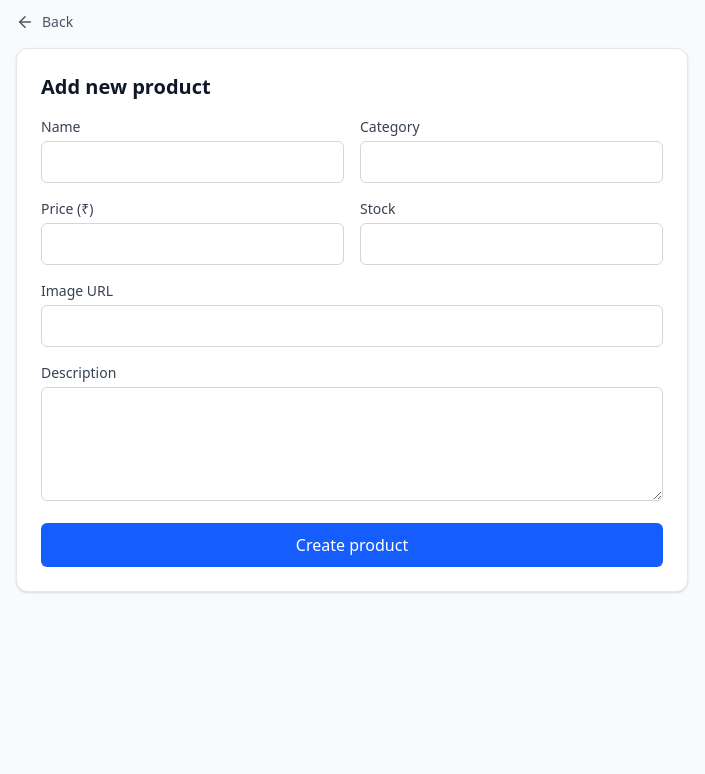
Test: ProductFormPage › add mode › validation › rejects an invalid name ("M")
In the field below "Name": (192,162) [41,141,344,183], type "M"
In the field below "Category": (512,162) [360,141,663,183], type "electronics"
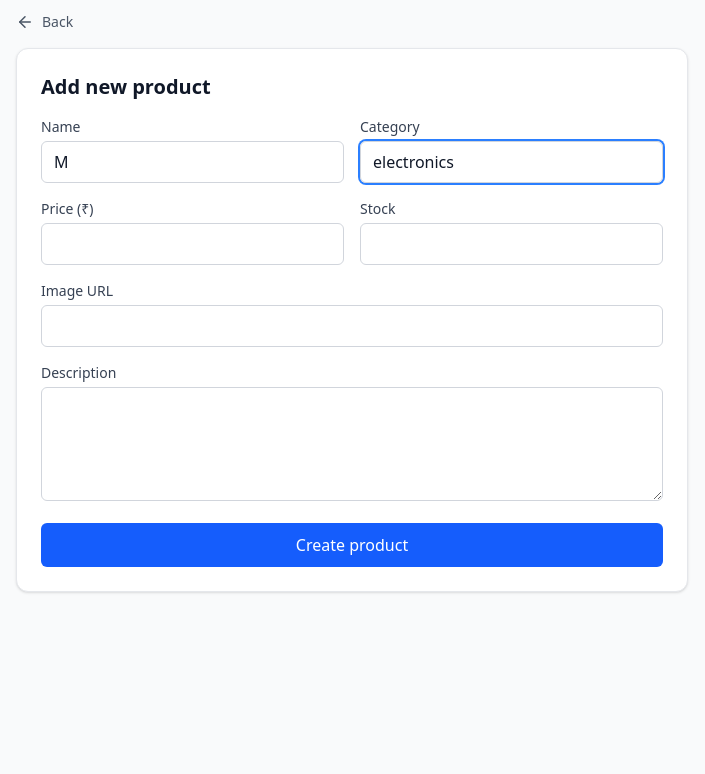
In the number field below "Price (₹)": (192,244) [41,223,344,265], type "1200"
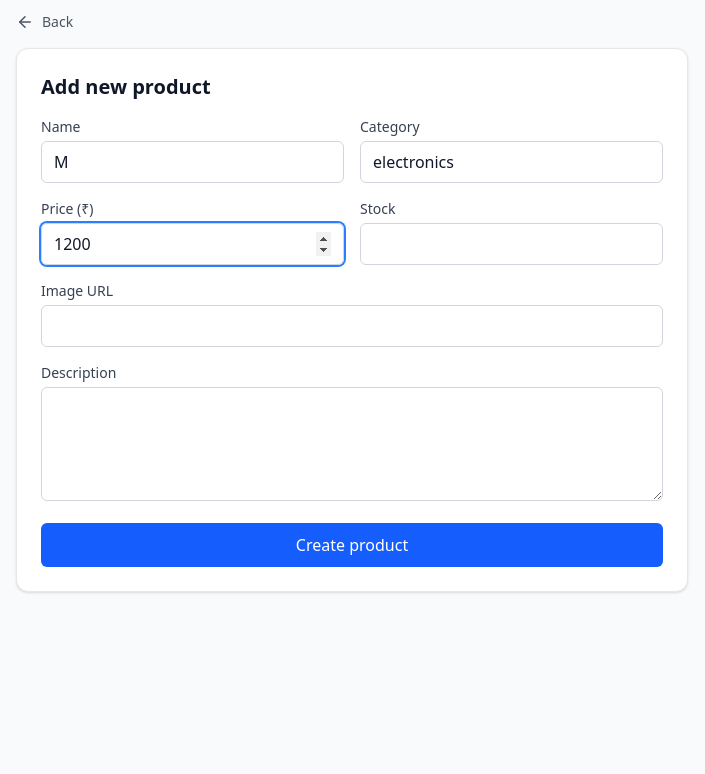
In the number field below "Stock": (512,244) [360,223,663,265], type "7"
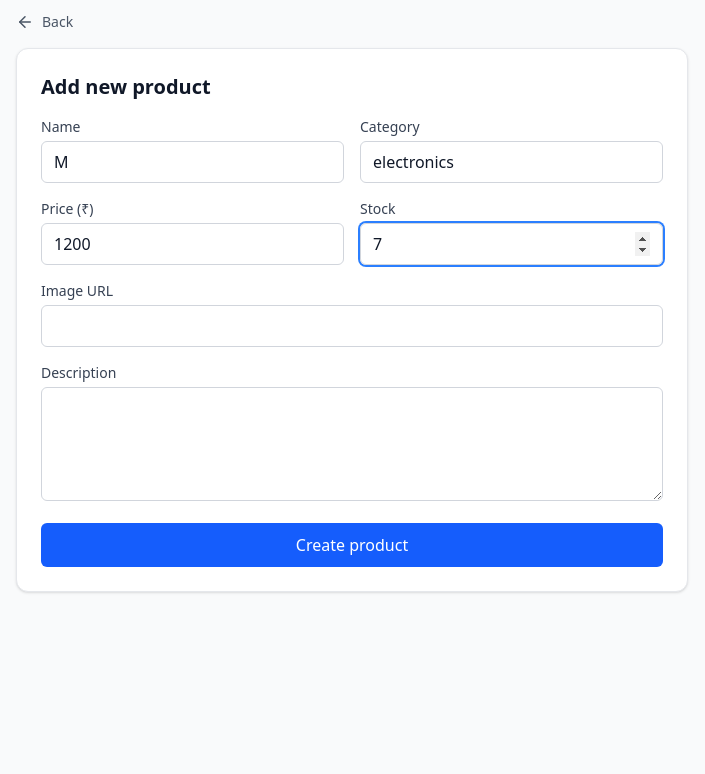
In the field below "Image URL": (352,326) [41,305,663,347], type "https://img.test/monitor.png"
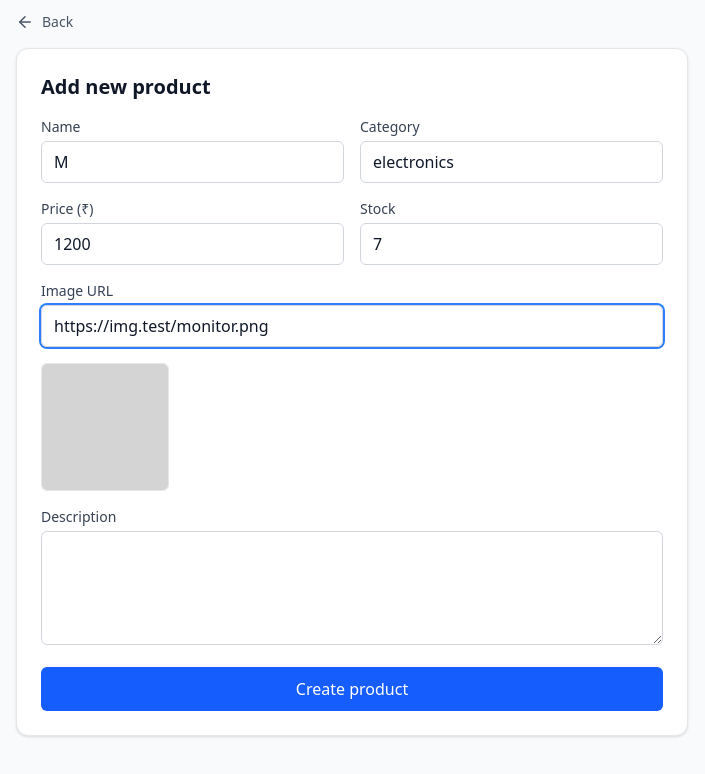
In the text box: (352,588) [41,531,663,645], type "A 24 inch monitor"
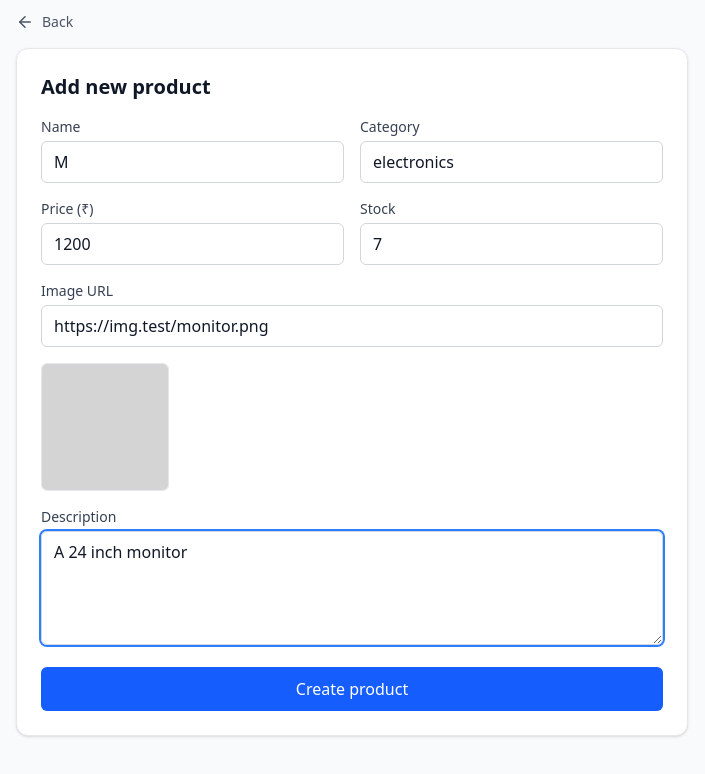
Click the button "Create product": (352,689) [41,667,663,711]
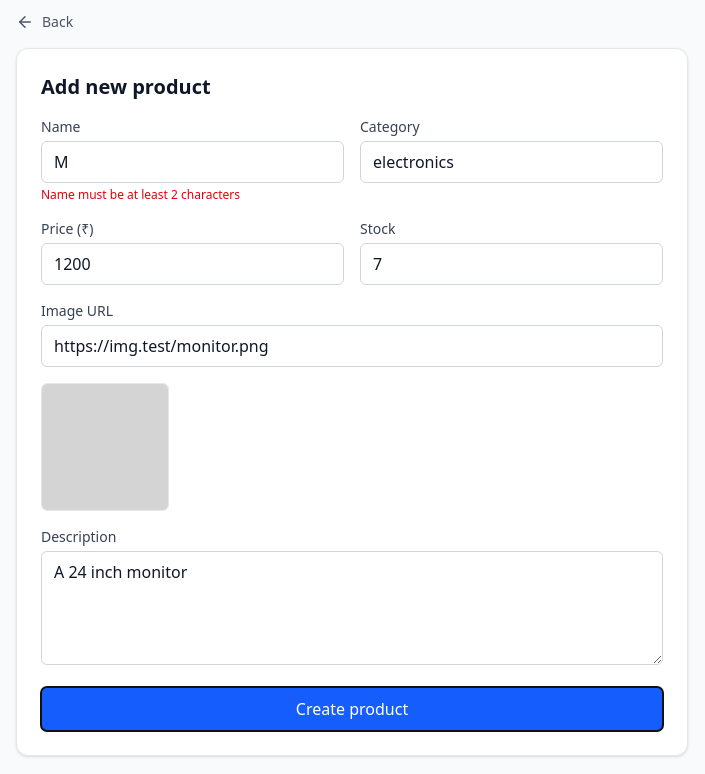
Expected: the text "Name must be at least 2 characters" is shown, [41,186,240,203]
